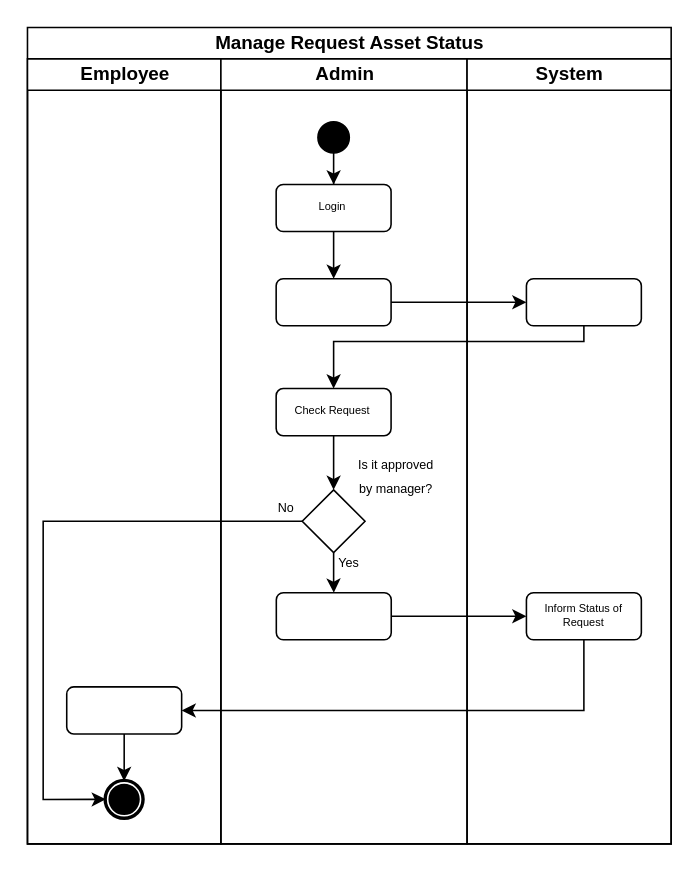
This 699x871 diagram has some shape labels left out. Each missing label, with the box of its shape:
Change Status Request: (275, 591, 391, 640)
Click "Request" Menu: (275, 277, 391, 326)
Display Request Page: (525, 277, 641, 326)
Receive Notification Updated Status of Request: (65, 685, 182, 734)
